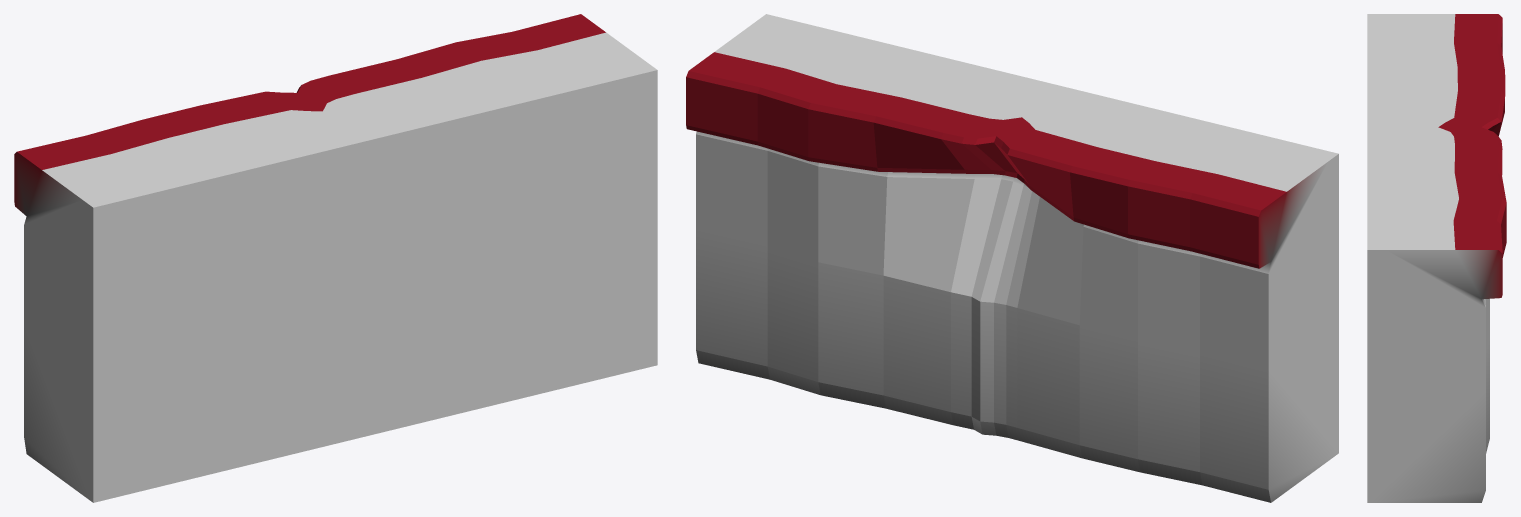
The model's file is Carnival_Edge2_V9.fbx.
3 renders of one model, left to right at view 1: azimuth 30°, elevation 25°; view 2: azimuth 150°, elevation 25°; view 3: azimuth 270°, elevation 25°, orthographic. The views are drawn at different scales.
Parts seen in each view (by area): view 1: Carnival_Edge2_V9; view 2: Carnival_Edge2_V9; view 3: Carnival_Edge2_V9.
Part boxes in pixels (box(x1,y1,x2,y2)): Carnival_Edge2_V9: box(14, 14, 657, 502); Carnival_Edge2_V9: box(686, 14, 1338, 502); Carnival_Edge2_V9: box(1367, 14, 1506, 502).
Bounding box in the file's own units: 2 × 1 × 0.4988.
